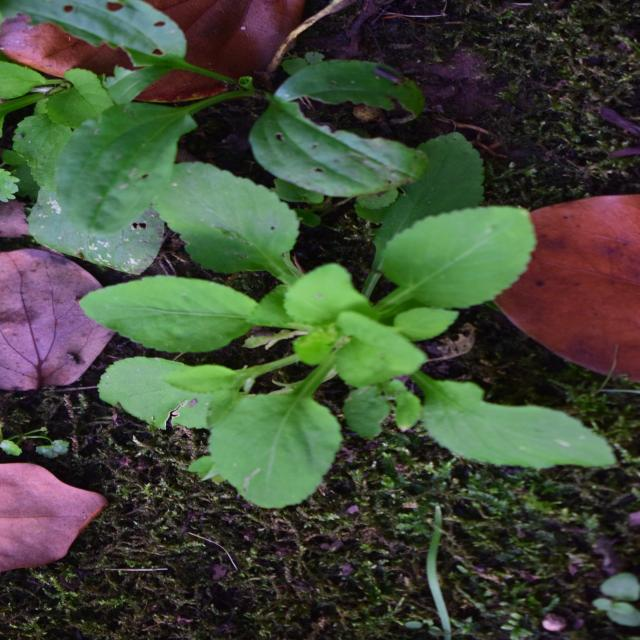Viola: (142, 90, 468, 542)
